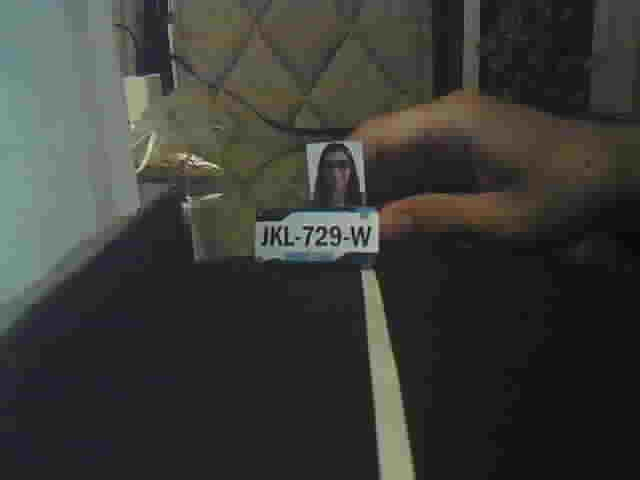PLACA: (254, 206, 383, 266)
ROSTRO: (313, 141, 364, 202)
